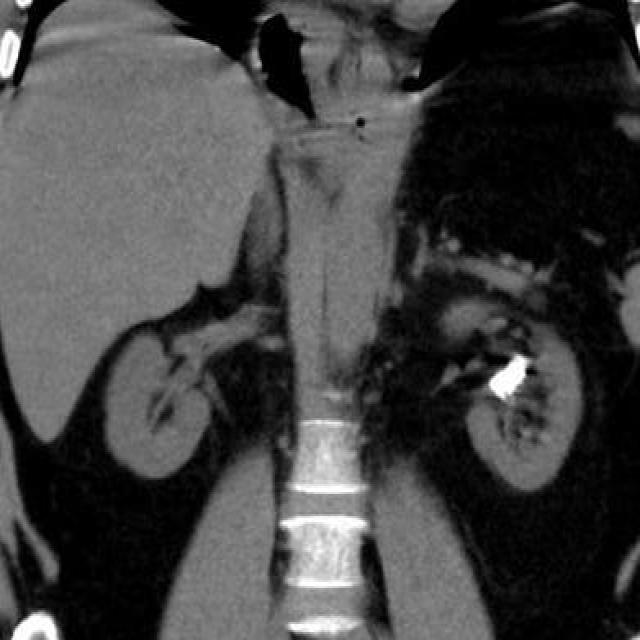Tas_Var: (488, 353, 528, 407), (514, 353, 530, 363)
